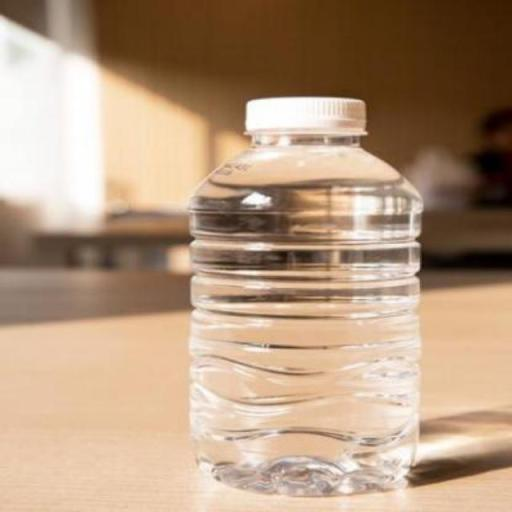Coca: (174, 88, 438, 502)
